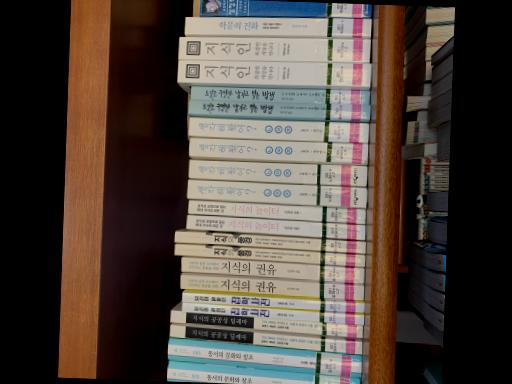book-spine: (167, 336, 362, 378), (169, 324, 362, 353), (177, 58, 372, 86), (170, 309, 363, 337), (186, 178, 366, 207), (178, 35, 370, 61), (181, 256, 365, 283), (188, 136, 368, 163), (167, 359, 361, 384), (188, 158, 366, 185), (180, 273, 364, 299), (188, 116, 369, 142), (174, 229, 366, 253), (174, 243, 365, 266), (186, 214, 365, 238), (187, 199, 366, 223), (182, 302, 364, 324), (182, 291, 364, 312), (184, 16, 372, 35), (188, 99, 370, 118), (190, 85, 370, 103), (199, 0, 372, 16)
